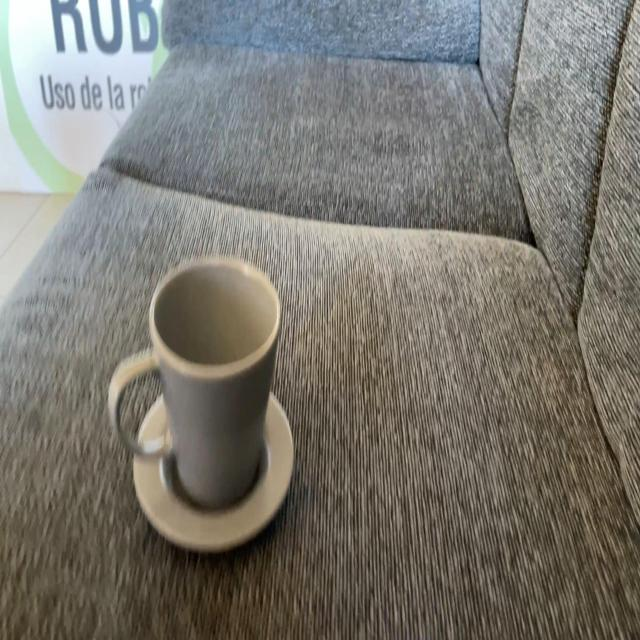cup: (109, 254, 280, 514)
